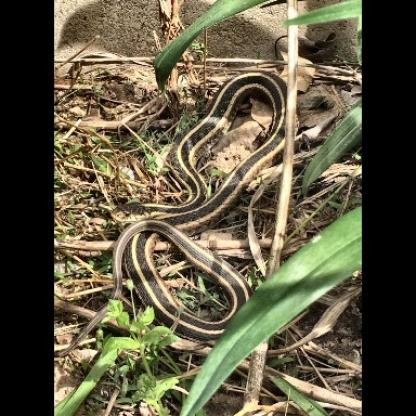Snake: (111, 71, 297, 340)
